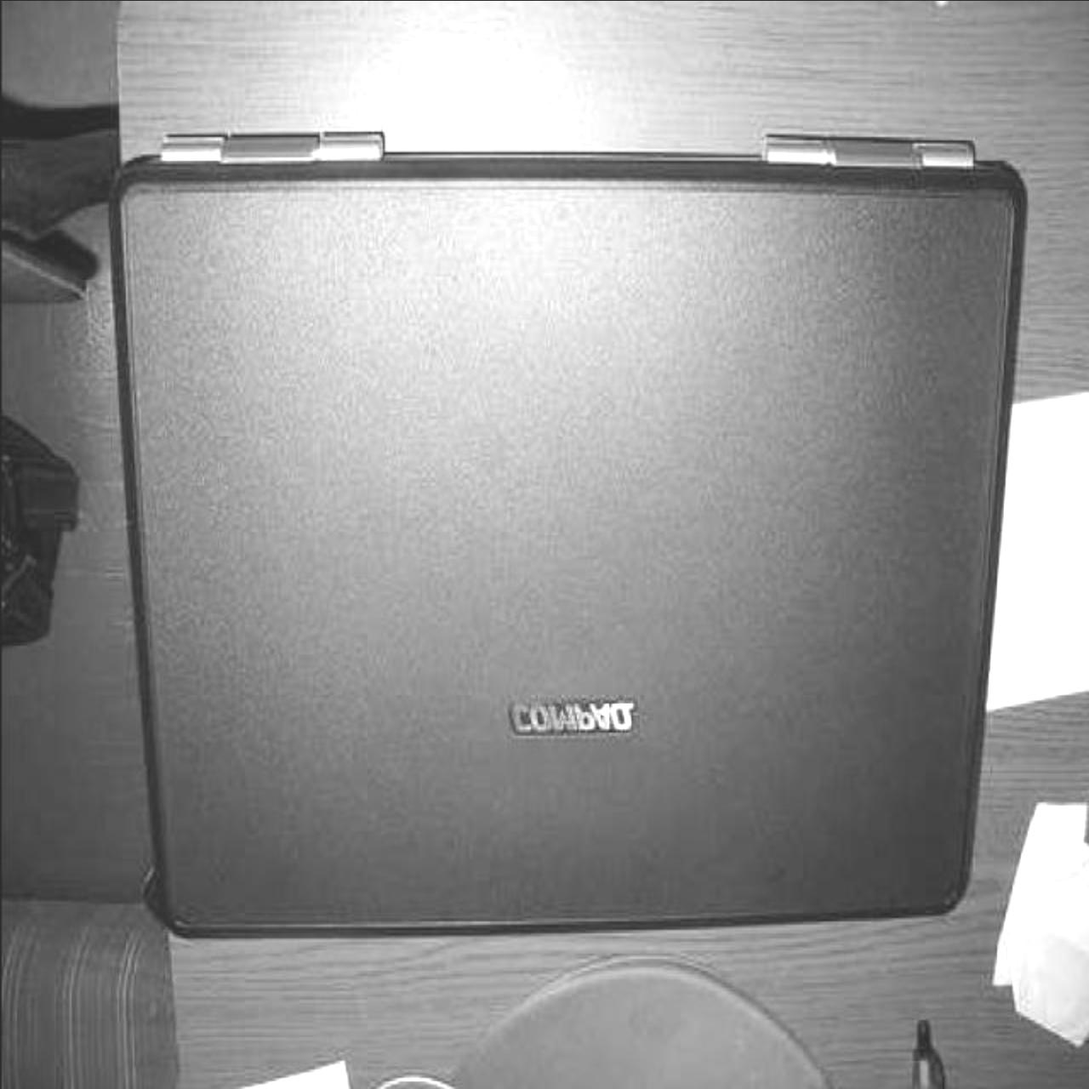laptop: (124, 90, 1019, 951)
